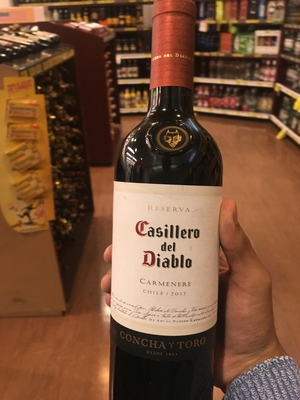casillero del diablo carmenere: (107, 22, 234, 400)
